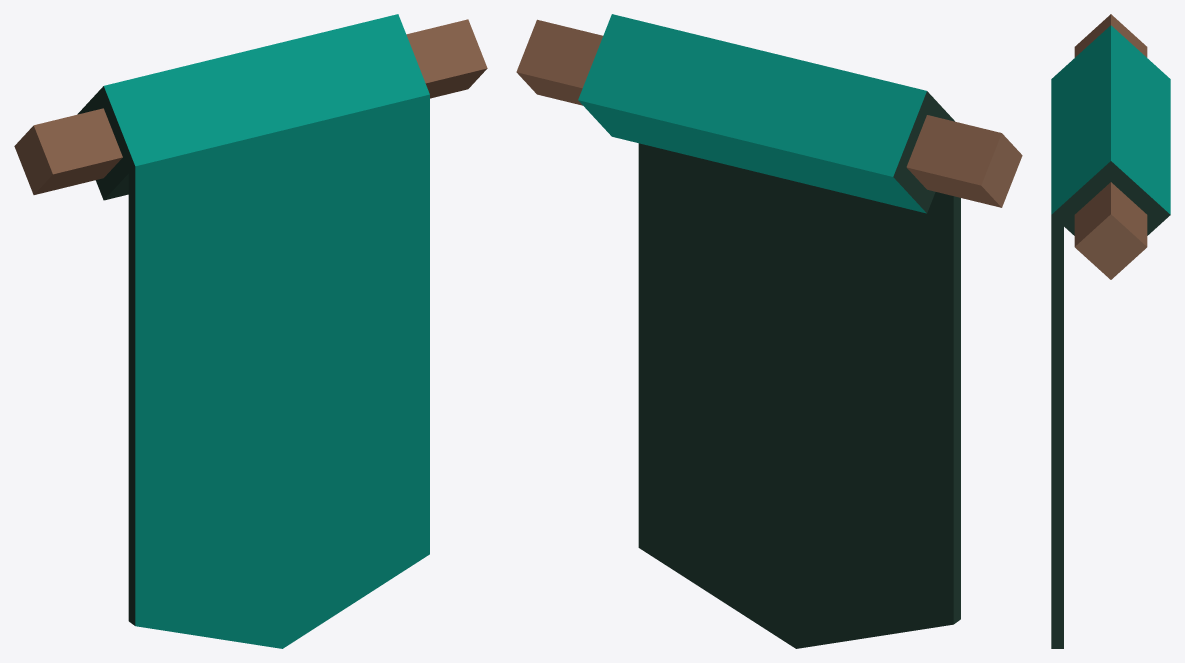
Rendered from TB_Prop_FlagSingle_B.FBX.
The picture shows the model from 3 angles, left to right: view 1: azimuth 30°, elevation 25°; view 2: azimuth 150°, elevation 25°; view 3: azimuth 270°, elevation 25°; orthographic projection. The views are drawn at different scales.
Parts seen in each view (by area): view 1: TB_Prop_FlagSingle_B; view 2: TB_Prop_FlagSingle_B; view 3: TB_Prop_FlagSingle_B.
Part boxes in pixels (<box>): TB_Prop_FlagSingle_B: <box>14,14,487,648</box>; TB_Prop_FlagSingle_B: <box>516,14,1022,648</box>; TB_Prop_FlagSingle_B: <box>1051,14,1170,648</box>.
Size of the model in its own units: 1.95 by 2.47 by 0.4917.
